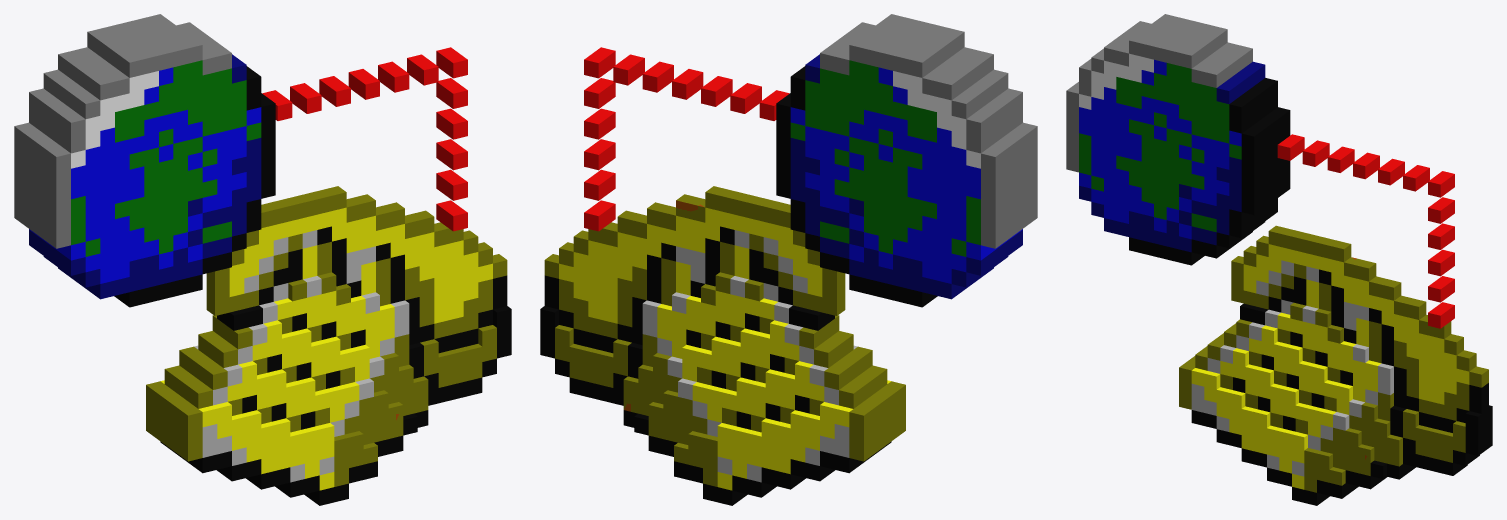
The model's file is alteryx.glb.
The picture shows the model from 3 angles, left to right: view 1: azimuth 30°, elevation 25°; view 2: azimuth 150°, elevation 25°; view 3: azimuth 330°, elevation 25°; orthographic projection. The views are drawn at different scales.
Visible parts, largest first — view 1: icon.008; view 2: icon.008; view 3: icon.008.
Boxes of the visible parts, box(x1,y1,x2,y2) form: icon.008: box(14, 14, 511, 505); icon.008: box(540, 14, 1037, 505); icon.008: box(1066, 14, 1492, 505).
Bounding box in the file's own units: 32 × 32 × 5.
1 material, 1 textured.
